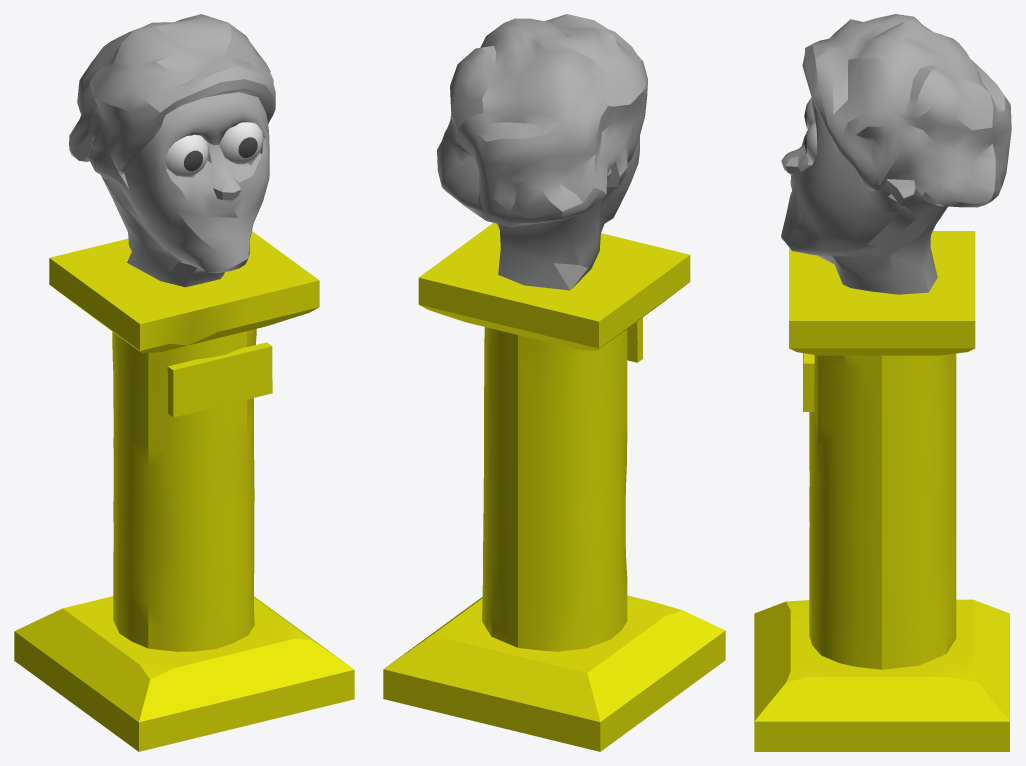
The model's file is busto01.fbx.
3 views of the same model, side by side, from view 1: azimuth 30°, elevation 25°; view 2: azimuth 150°, elevation 25°; view 3: azimuth 270°, elevation 25° (orthographic). The views are drawn at different scales.
Parts seen in each view (by area): view 1: Retopo_Cube.006, Sphere.002, Sphere.001; view 2: Retopo_Cube.006; view 3: Retopo_Cube.006.
Boxes of the visible parts, left/top/right/bottom form: Retopo_Cube.006: left=14, top=14, right=354, bottom=751; Sphere.002: left=219, top=122, right=263, bottom=164; Sphere.001: left=165, top=134, right=208, bottom=176; Retopo_Cube.006: left=383, top=14, right=725, bottom=751; Retopo_Cube.006: left=754, top=14, right=1011, bottom=751.
Size of the model in its own units: 120 by 345 by 120.
